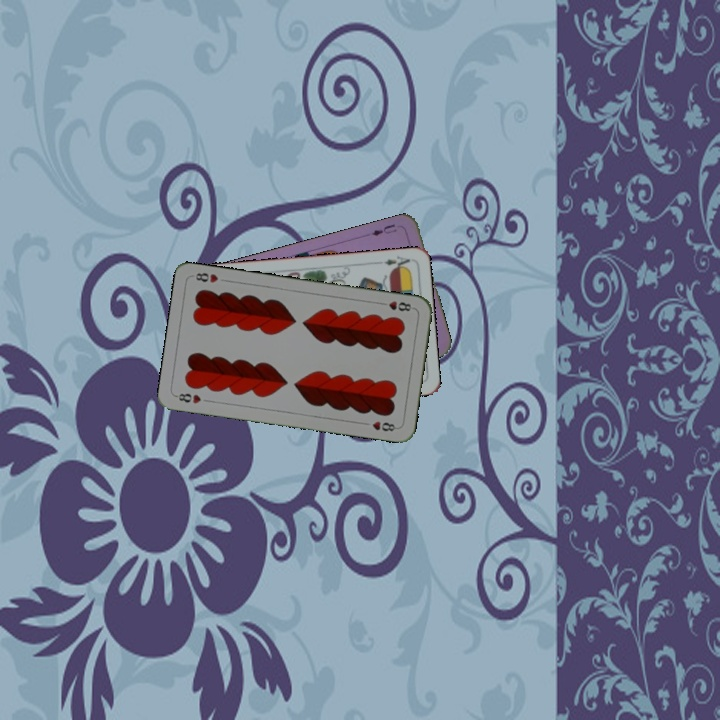EA: (373, 252, 412, 272)
EU: (367, 220, 399, 238)
H8: (376, 297, 416, 314), (172, 389, 204, 406)
